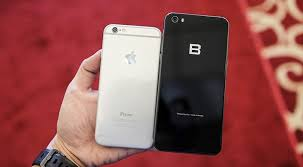bphone: (154, 8, 229, 157)
